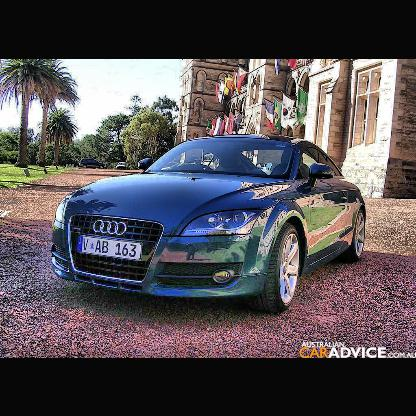Audi TT Hatchback 2011: (53, 134, 367, 312)
